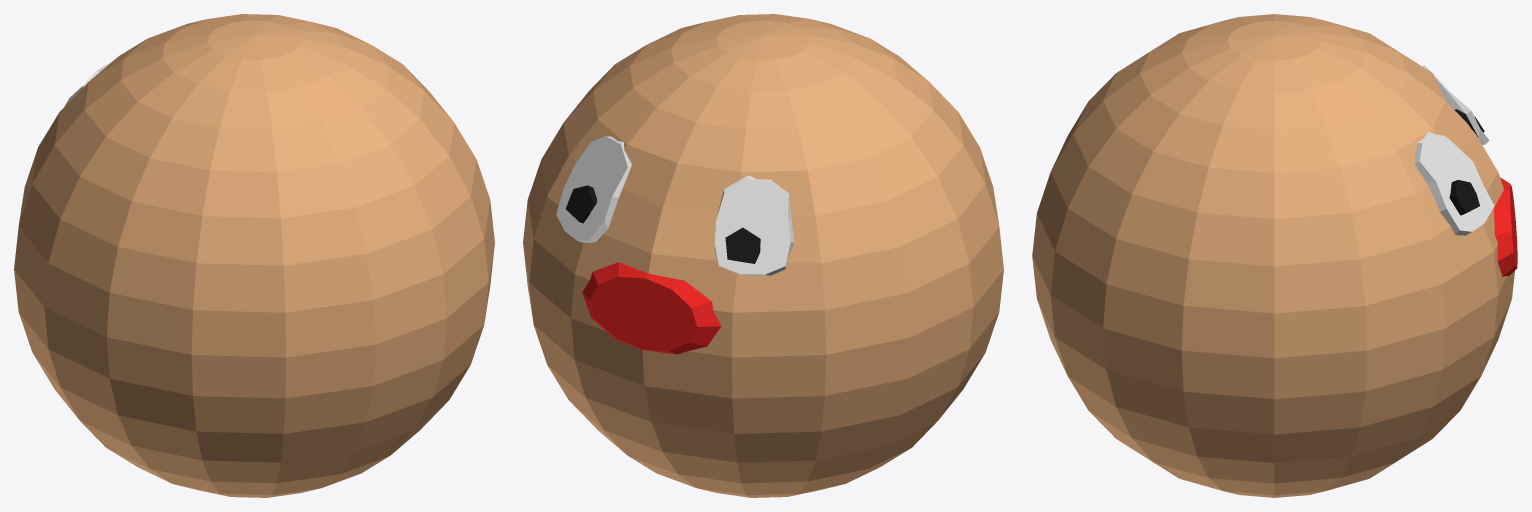
The model's file is Kolobok_head.fbx.
3 renders of one model, left to right at view 1: azimuth 30°, elevation 25°; view 2: azimuth 150°, elevation 25°; view 3: azimuth 270°, elevation 25°, orthographic.
Visible parts, largest first — view 1: Head; view 2: Head, Nose, Eye_left, Eye_right, Eyepupil_Left, EyePupilRight; view 3: Head, Eye_right, Nose, EyePupilRight, Eye_left.
Boxes of the visible parts, box(x1,y1,x2,y2) form: Head: box(14, 14, 494, 497); Head: box(523, 14, 1003, 497); Nose: box(582, 262, 721, 354); Eye_left: box(714, 175, 794, 275); Eye_right: box(556, 136, 631, 242); Eyepupil_Left: box(725, 227, 760, 263); EyePupilRight: box(565, 185, 596, 223); Head: box(1032, 14, 1514, 497); Eye_right: box(1414, 131, 1494, 235); Nose: box(1494, 177, 1517, 276); EyePupilRight: box(1449, 180, 1479, 215); Eye_left: box(1422, 65, 1489, 144).
Bounding box in the file's own units: 200 × 200 × 200.
